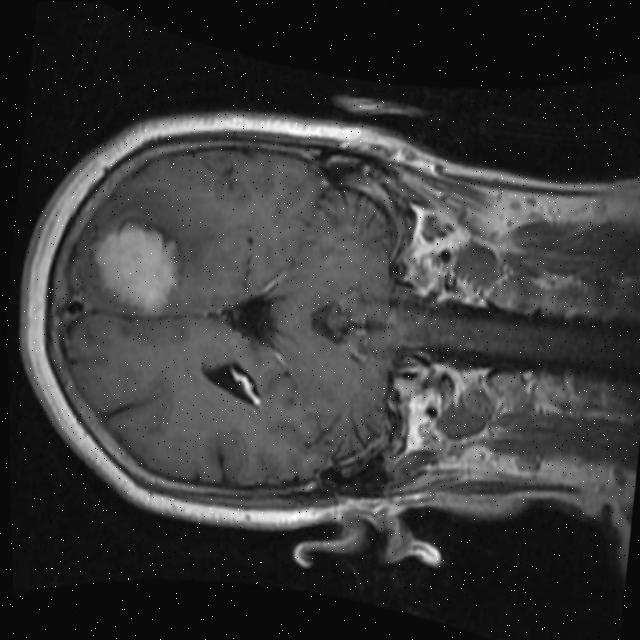Meningioma: (85, 211, 188, 320)
